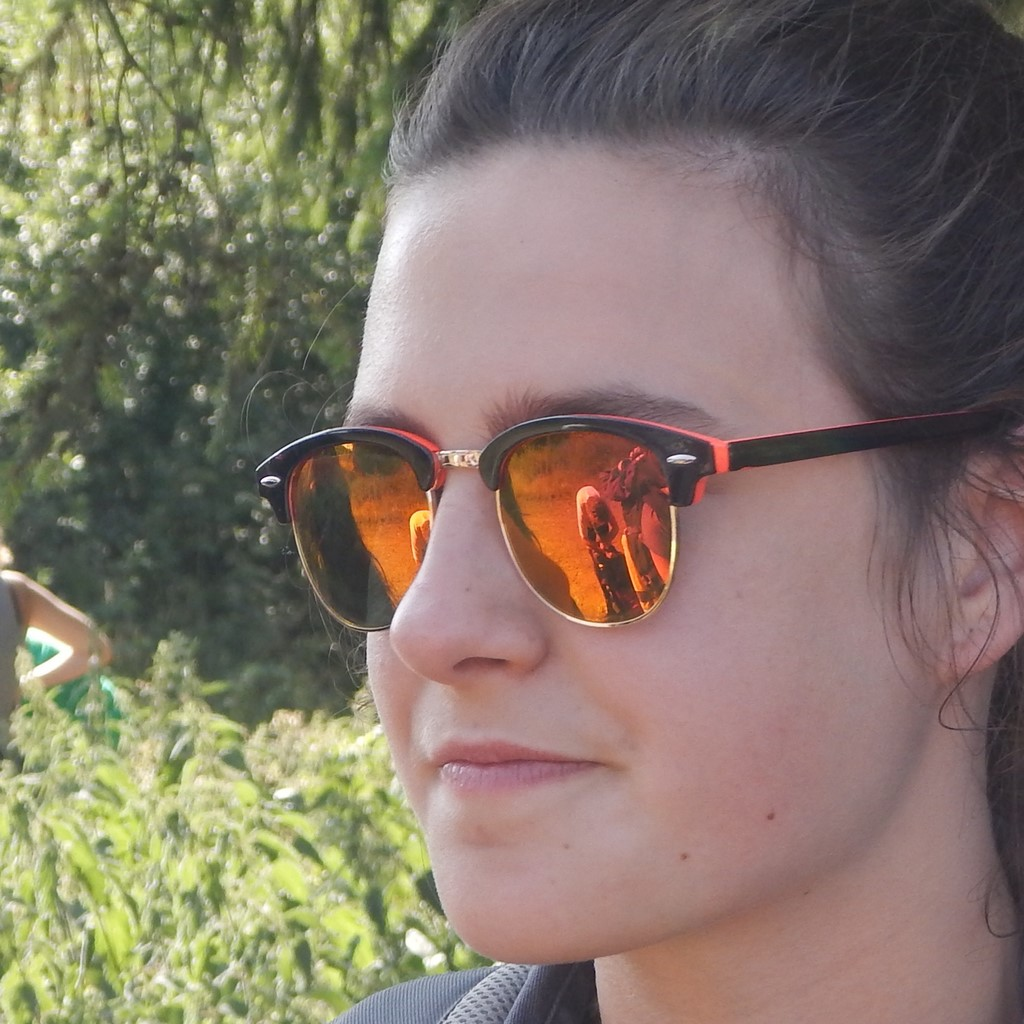sin_mascara: (307, 80, 1008, 953)
